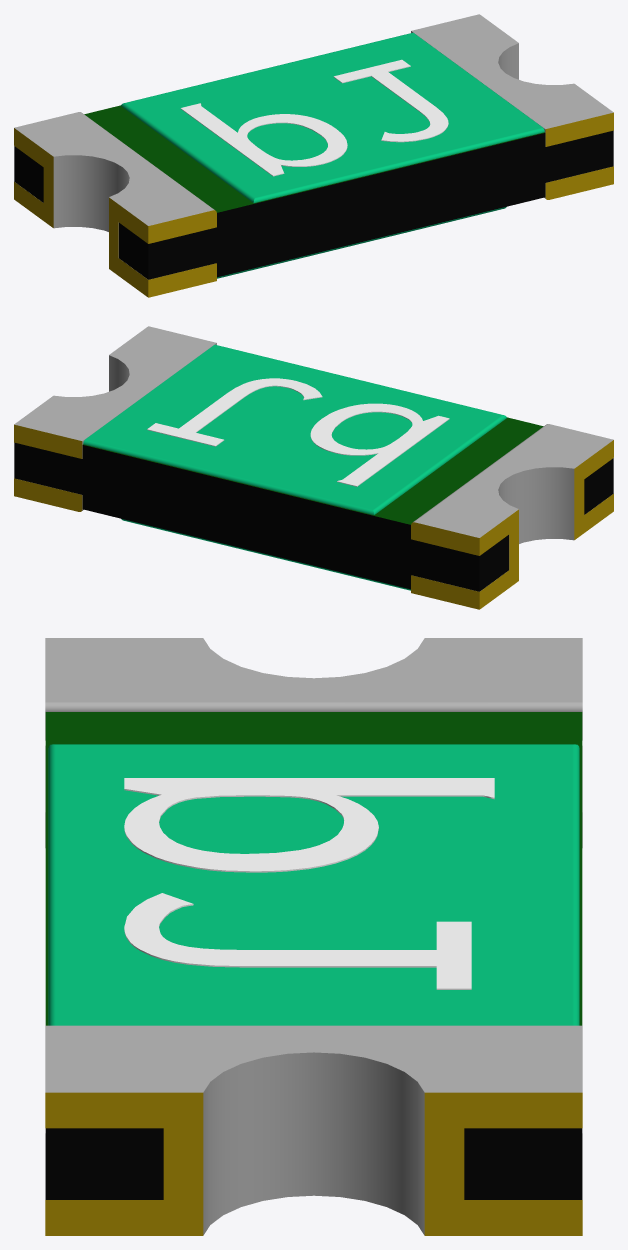
3 renders of one model, top to bottom at view 1: azimuth 30°, elevation 25°; view 2: azimuth 150°, elevation 25°; view 3: azimuth 270°, elevation 25°, orthographic. The views are drawn at different scales.
Visible parts, largest first — view 1: 0ZCJ0035FF2G; view 2: 0ZCJ0035FF2G; view 3: 0ZCJ0035FF2G.
Boxes of the visible parts, x1,y1,x2,y2 form: 0ZCJ0035FF2G: [14, 14, 613, 297]; 0ZCJ0035FF2G: [14, 326, 613, 609]; 0ZCJ0035FF2G: [45, 638, 582, 1235].
Size of the model in its own units: 0.0034 by 0.000508 by 0.0017.
